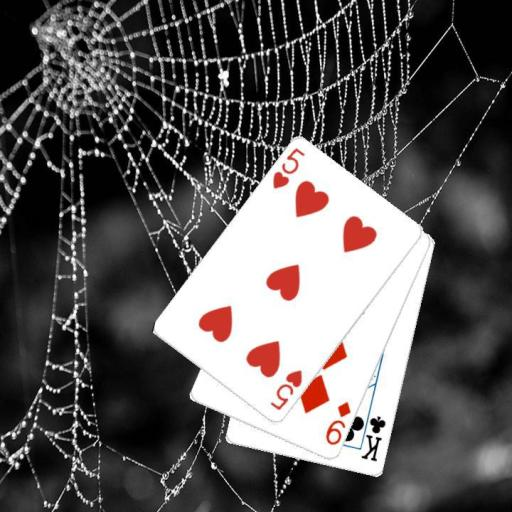5H: (269, 145, 306, 191), (267, 367, 304, 412)
9D: (322, 399, 353, 447)
KC: (356, 406, 388, 464)
